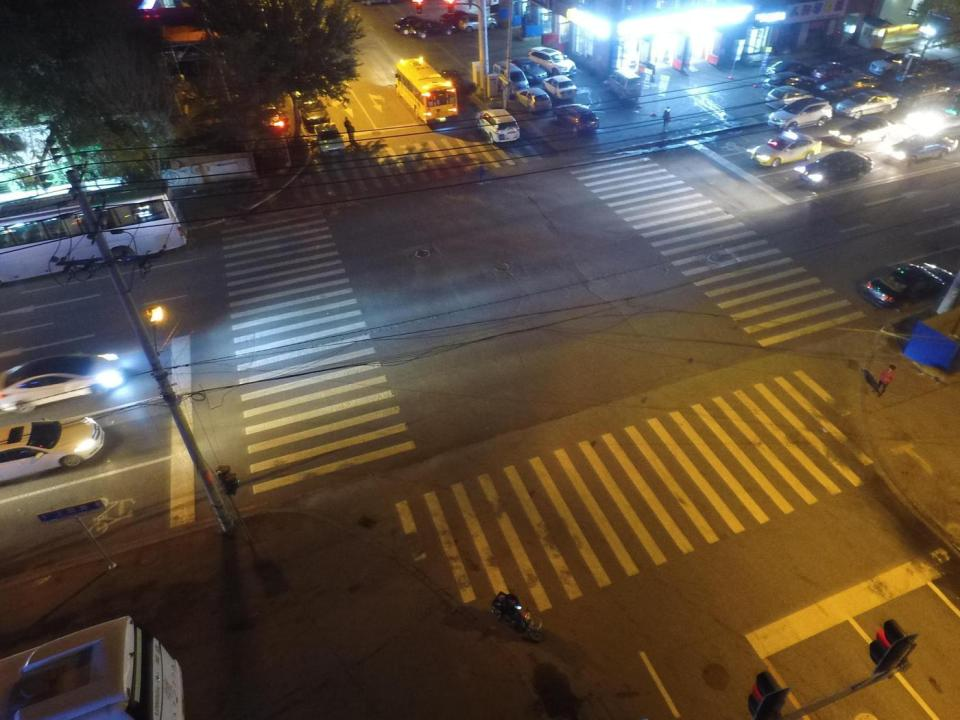bus: (0, 613, 184, 718), (0, 181, 184, 284), (392, 58, 462, 128)
car: (0, 352, 123, 413), (0, 416, 103, 486), (858, 264, 960, 309), (796, 150, 876, 185), (769, 97, 832, 132), (755, 133, 823, 165), (885, 132, 958, 160), (908, 96, 960, 132), (898, 76, 959, 106), (475, 105, 519, 146), (836, 116, 895, 146), (836, 88, 899, 116), (530, 43, 578, 76), (553, 103, 601, 134), (899, 56, 952, 83), (870, 48, 915, 76), (822, 73, 878, 94), (300, 94, 330, 132), (314, 122, 347, 156), (282, 61, 314, 95), (409, 18, 459, 38), (538, 76, 577, 100), (514, 55, 546, 84), (764, 87, 811, 106), (814, 62, 863, 79), (519, 88, 551, 114), (391, 15, 437, 32), (768, 60, 816, 76), (459, 14, 496, 32), (765, 75, 810, 89), (440, 10, 475, 26)
van: (493, 58, 529, 94), (608, 70, 643, 101)
